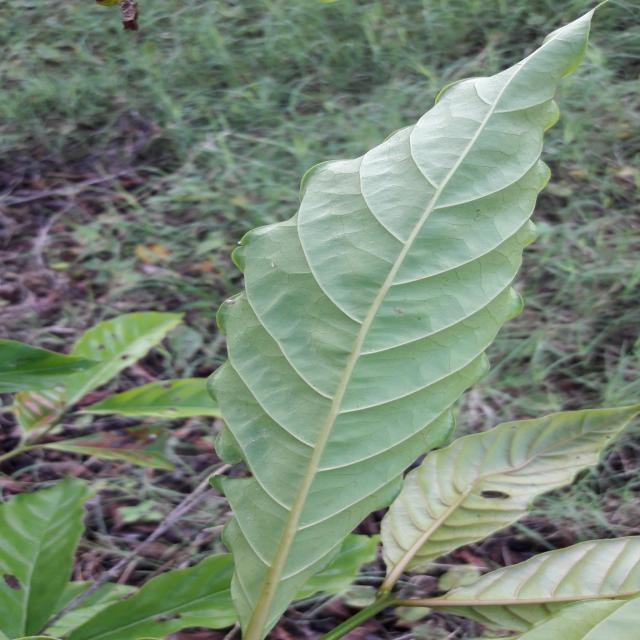Sanas: (209, 10, 596, 640)
